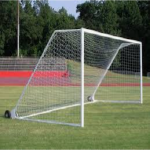goals: (10, 27, 144, 127)
